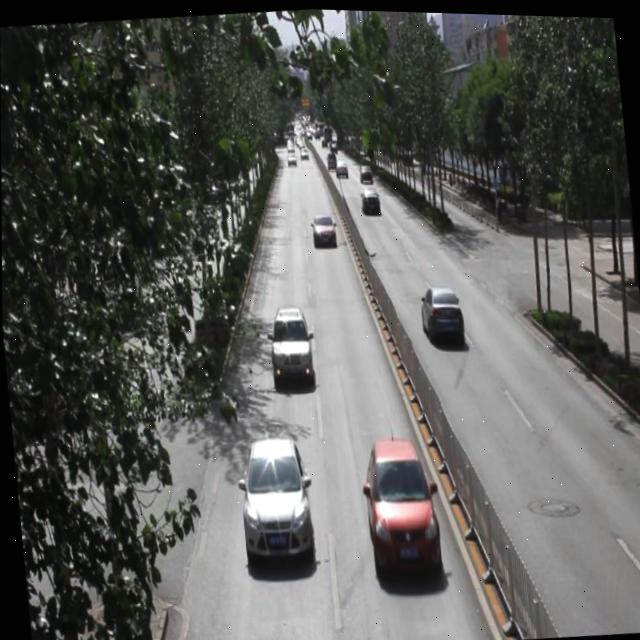car: (359, 433, 439, 568), (235, 429, 312, 560), (267, 301, 314, 384), (417, 280, 465, 344), (309, 208, 336, 246), (359, 184, 381, 212), (357, 159, 374, 183), (334, 155, 347, 177), (285, 149, 297, 166), (299, 144, 309, 159)
truck: (324, 147, 336, 168)
